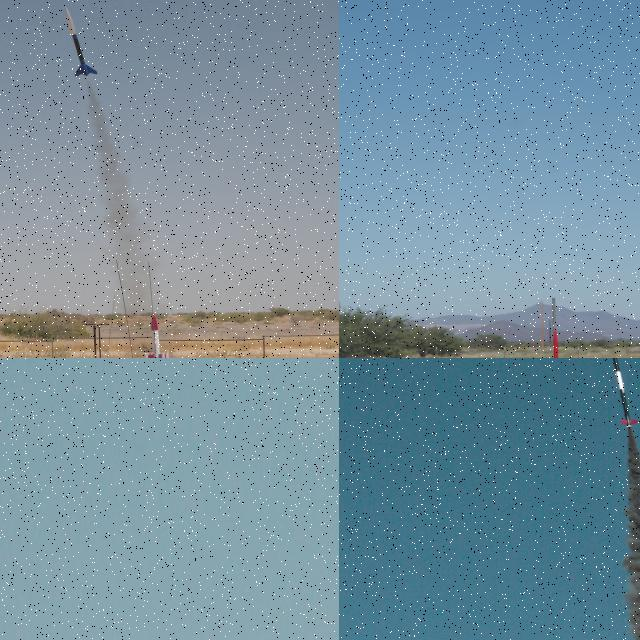Rocket: (603, 358, 638, 428), (65, 6, 98, 77), (144, 313, 169, 358), (550, 329, 562, 358)
